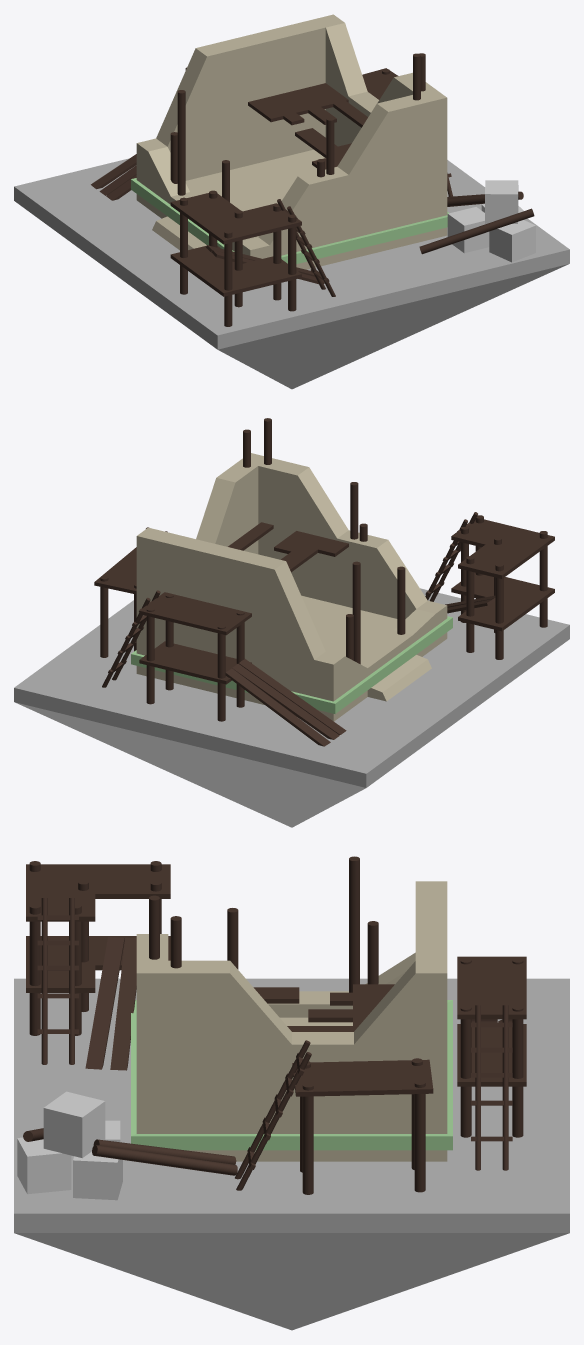
File: Concept 01 Scaffold.fbx
3 views of the same model, one above another, from view 1: azimuth 30°, elevation 25°; view 2: azimuth 150°, elevation 25°; view 3: azimuth 270°, elevation 25° (orthographic). The views are drawn at different scales.
Parts seen in each view (by area): view 1: Cube; view 2: Cube; view 3: Cube.
Part boxes in pixels (bbox=[...]): Cube: bbox=[14, 14, 569, 389]; Cube: bbox=[14, 418, 569, 827]; Cube: bbox=[14, 856, 569, 1330].
Size of the model in its own units: 1599 by 1530 by 1599.
